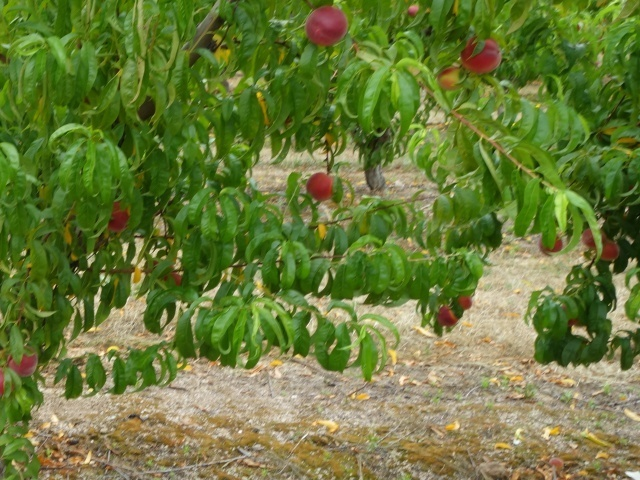peach: (301, 3, 354, 52), (460, 32, 505, 77), (105, 196, 134, 239), (303, 170, 337, 206), (4, 345, 40, 379), (434, 63, 469, 94), (580, 223, 609, 252), (534, 232, 565, 258), (595, 238, 623, 264), (434, 303, 461, 329), (455, 290, 478, 314)
